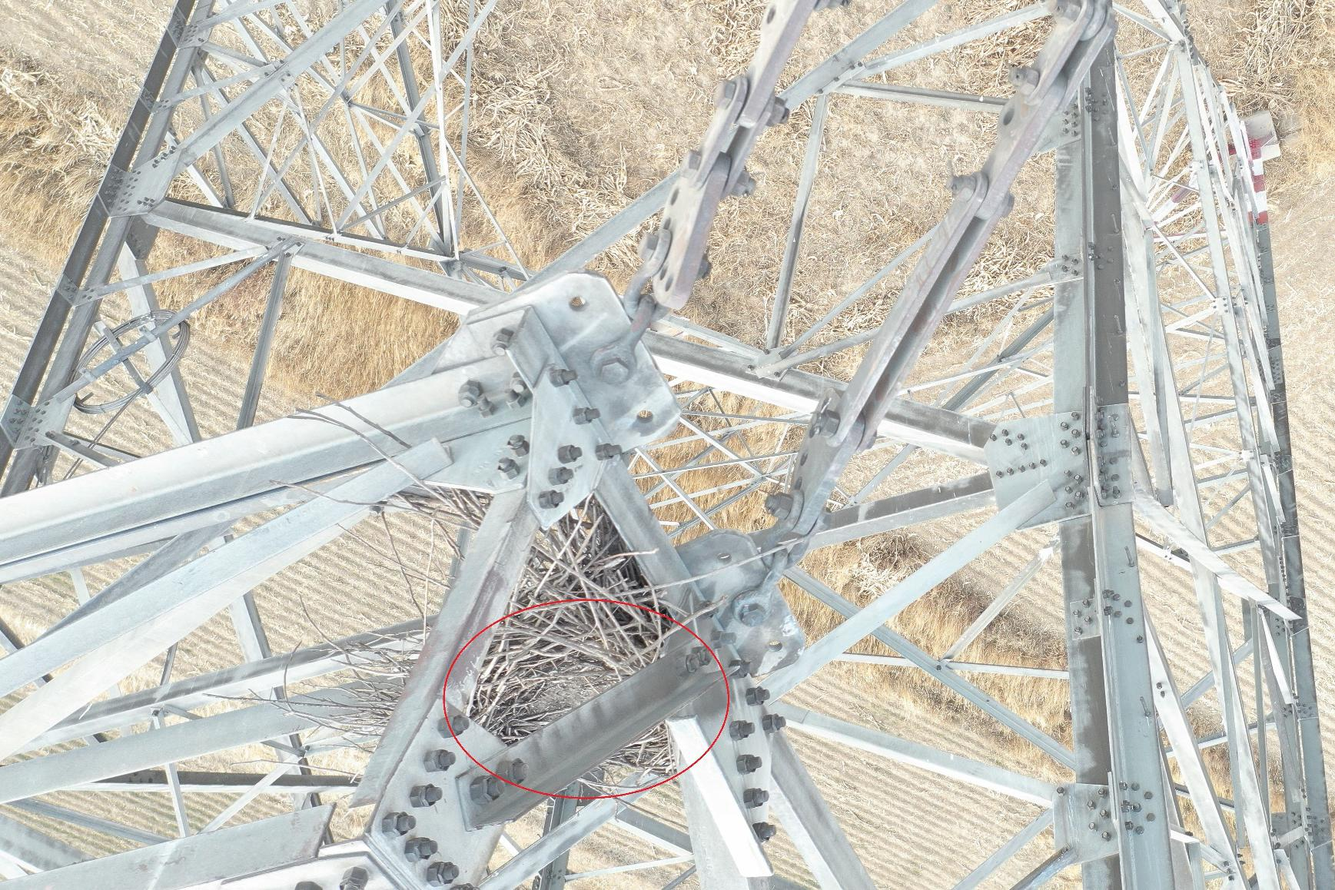nest: (327, 490, 685, 788)
